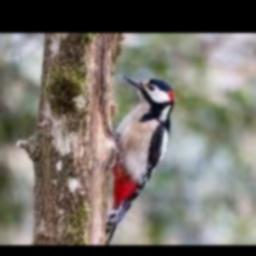Woodpecker: (105, 75, 174, 245)
